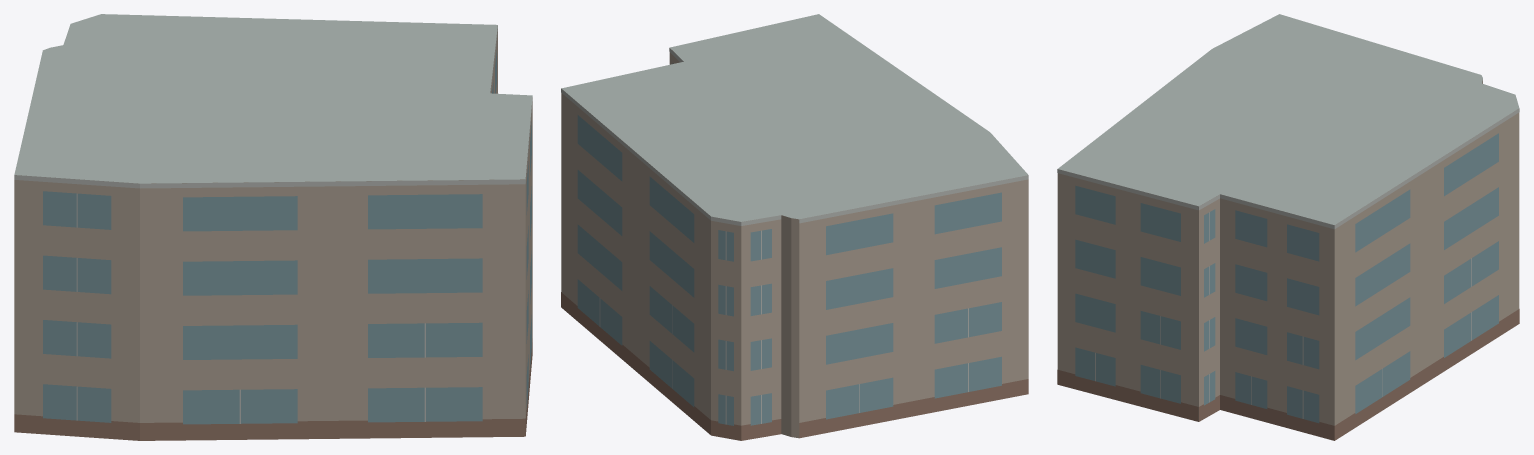
Rendered from survey-upis-33041919.glb.
3 views of the same model, side by side, from view 1: azimuth 30°, elevation 25°; view 2: azimuth 150°, elevation 25°; view 3: azimuth 270°, elevation 25° (orthographic). The views are drawn at different scales.
Visible parts, largest first — view 1: survey-upis-33041919.tmp; view 2: survey-upis-33041919.tmp; view 3: survey-upis-33041919.tmp.
Part boxes in pixels (bbox=[...]): survey-upis-33041919.tmp: bbox=[14, 14, 532, 440]; survey-upis-33041919.tmp: bbox=[561, 14, 1028, 440]; survey-upis-33041919.tmp: bbox=[1057, 14, 1519, 440].
Bounding box in the file's own units: 26.9 × 12.8 × 24.86.
